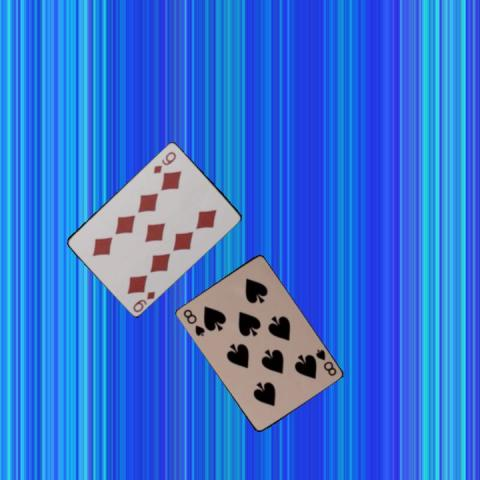8s: (180, 306, 206, 338), (312, 346, 338, 377)
9d: (151, 148, 177, 175), (130, 288, 157, 314)
